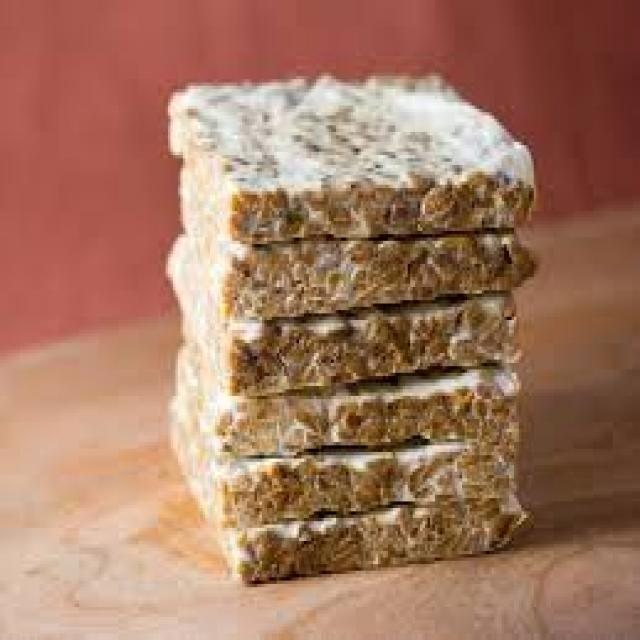Organik: (165, 74, 540, 588)
